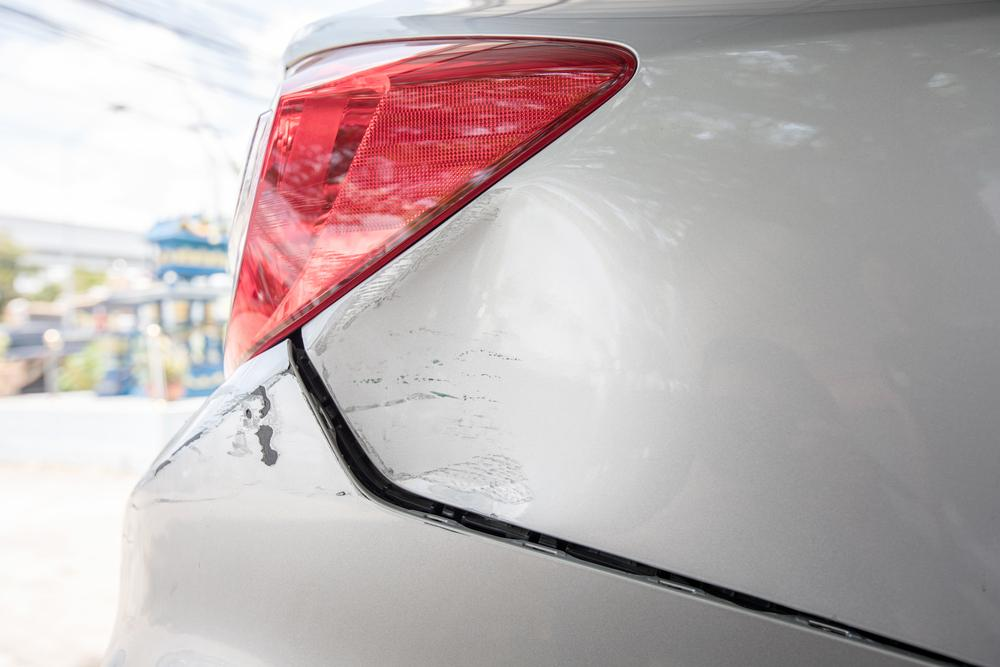dent: (322, 195, 637, 508)
scratch: (151, 362, 296, 490)
